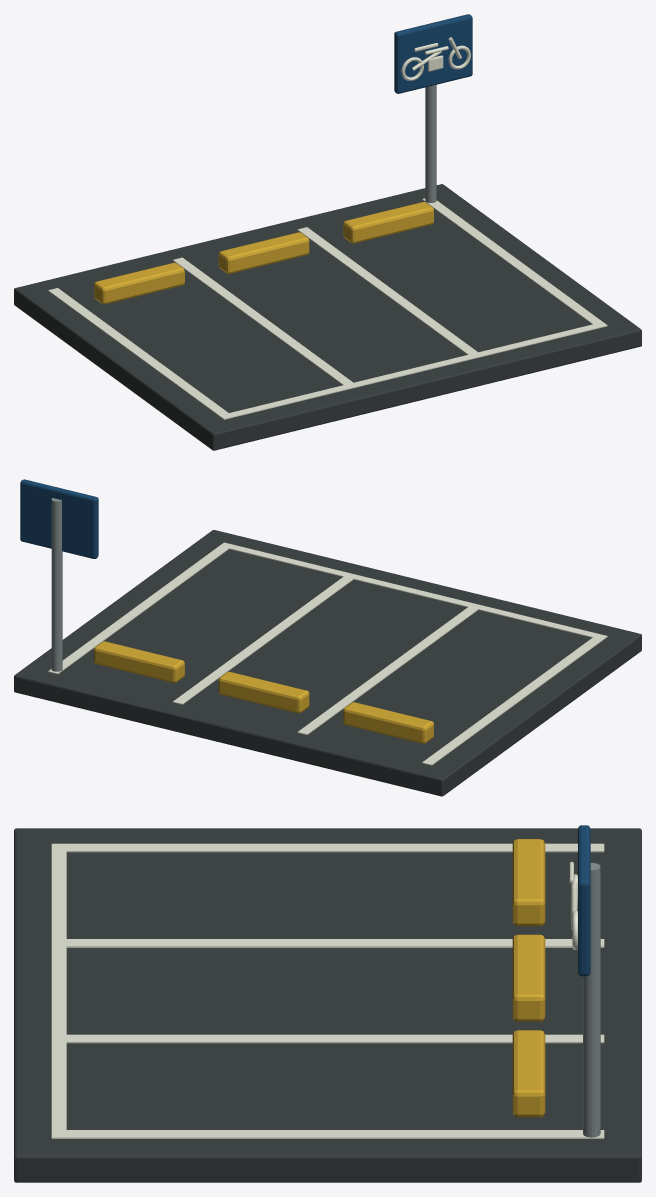
Rendered from motorcycle-parking-bay.glb.
3 renders of one model, top to bottom at view 1: azimuth 30°, elevation 25°; view 2: azimuth 150°, elevation 25°; view 3: azimuth 270°, elevation 25°, orthographic. The views are drawn at different scales.
Visible parts, largest first — view 1: SLAB_Asphalt, SIGN_Blue, MARK_Front, STOP_1, STOP_0, STOP_2, MARK_BayLine_0, MARK_BayLine_1, MARK_BayLine_2, MARK_BayLine_3, POST_Sign; view 2: SLAB_Asphalt, SIGN_Blue, STOP_1, STOP_2, STOP_0, MARK_Front, POST_Sign, MARK_BayLine_0, MARK_BayLine_2, MARK_BayLine_1, MARK_BayLine_3; view 3: SLAB_Asphalt, MARK_BayLine_0, MARK_BayLine_2, MARK_BayLine_3, MARK_BayLine_1, MARK_Front, POST_Sign, STOP_0, STOP_1, STOP_2, SIGN_Blue.
Part boxes in pixels (x1,y1,x2,y2): SLAB_Asphalt: (14,184,641,450); SIGN_Blue: (394,14,472,93); MARK_Front: (221,322,606,418); STOP_1: (218,232,309,273); STOP_0: (94,262,184,304); STOP_2: (343,202,433,243); MARK_BayLine_0: (48,288,233,419); MARK_BayLine_1: (173,257,357,388); MARK_BayLine_2: (297,227,482,357); MARK_BayLine_3: (422,198,607,326); POST_Sign: (425,84,436,202); SLAB_Asphalt: (14,530,641,796); SIGN_Blue: (20,479,98,558); STOP_1: (218,672,309,713); STOP_2: (94,641,184,682); STOP_0: (343,702,433,743); MARK_Front: (223,543,600,637); POST_Sign: (51,498,62,671); MARK_BayLine_0: (422,634,607,765); MARK_BayLine_2: (173,573,357,704); MARK_BayLine_1: (297,603,482,734); MARK_BayLine_3: (48,542,233,674); SLAB_Asphalt: (14,828,641,1182); MARK_BayLine_0: (51,843,604,852); MARK_BayLine_2: (51,1034,604,1043); MARK_BayLine_3: (51,1130,604,1138); MARK_BayLine_1: (51,939,604,947); MARK_Front: (51,844,66,1129); POST_Sign: (583,863,600,1137); STOP_0: (512,839,545,926); STOP_1: (512,934,545,1021); STOP_2: (512,1030,545,1117); SIGN_Blue: (578,825,590,976).
Bounding box in the file's own units: 3.17 × 1.36 × 2.5.
